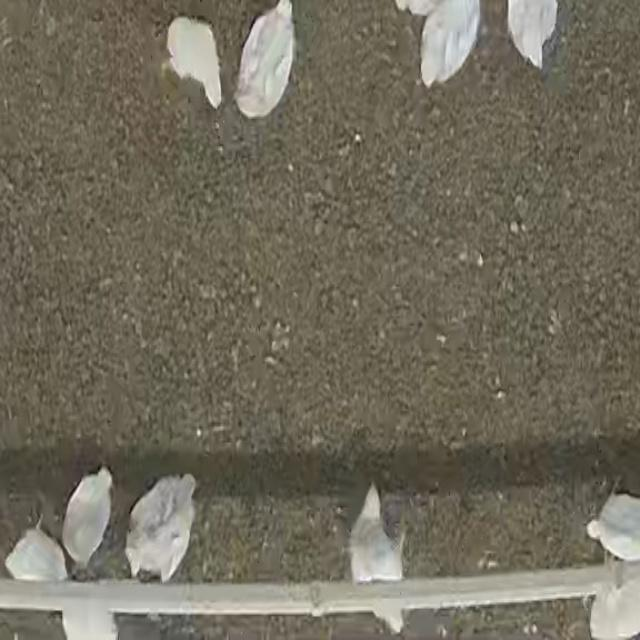chicken: (121, 470, 199, 585), (236, 0, 297, 119), (163, 15, 224, 111), (349, 483, 405, 584), (61, 465, 114, 571), (418, 0, 481, 86), (3, 518, 68, 582), (506, 0, 560, 71), (590, 497, 640, 561), (590, 591, 640, 640)
